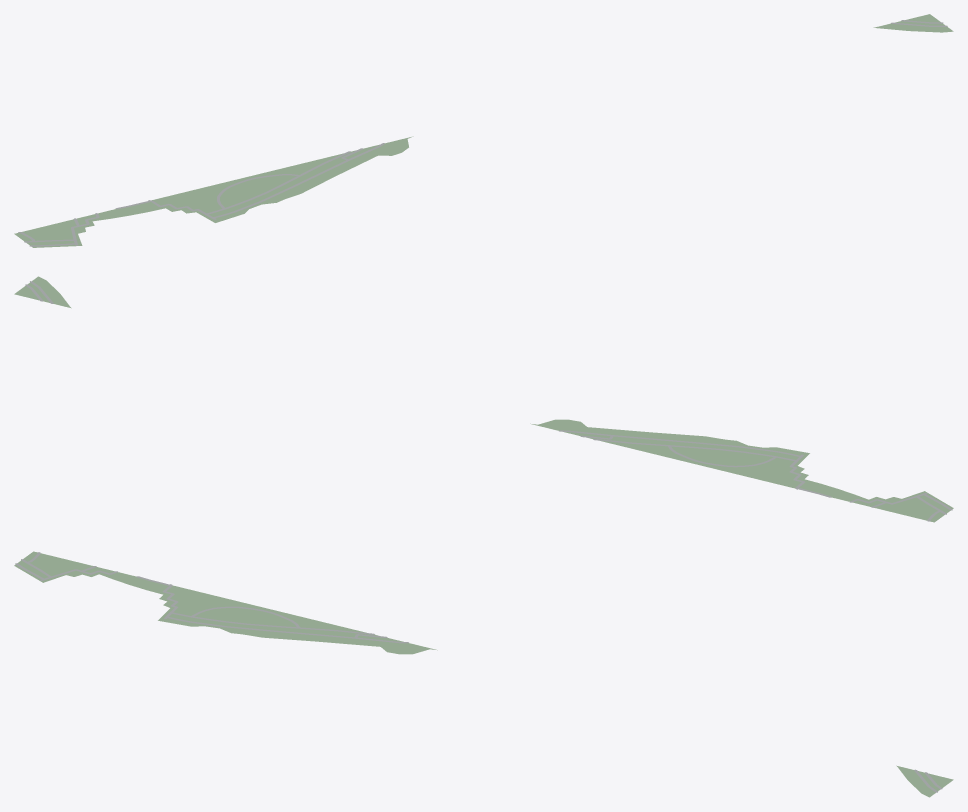
Rendered from -7_-2-known-coarse.glb.
3 views of the same model, one above another, from view 1: azimuth 30°, elevation 25°; view 2: azimuth 150°, elevation 25°; view 3: azimuth 330°, elevation 25° (orthographic).
Size of the model in its own units: 1003 by 0.1 by 76.42.
